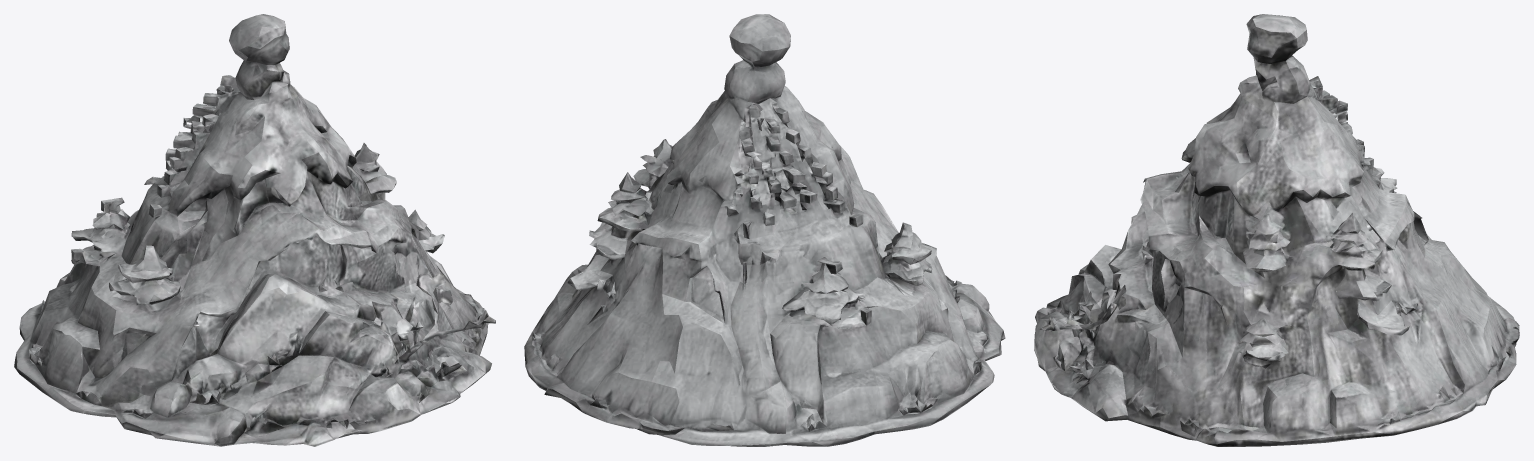
Rendered from summit-silver.glb.
The picture shows the model from 3 angles, left to right: view 1: azimuth 30°, elevation 25°; view 2: azimuth 150°, elevation 25°; view 3: azimuth 270°, elevation 25°; orthographic projection. The views are drawn at different scales.
Parts seen in each view (by area): view 1: geometry_0; view 2: geometry_0; view 3: geometry_0.
Boxes of the visible parts, left/top/right/bottom form: geometry_0: left=14, top=14, right=495, bottom=446; geometry_0: left=524, top=14, right=1005, bottom=446; geometry_0: left=1034, top=14, right=1519, bottom=446.
Bounding box in the file's own units: 0.198 × 0.15 × 0.1974.
Materials: 1 (1 with a texture image).
